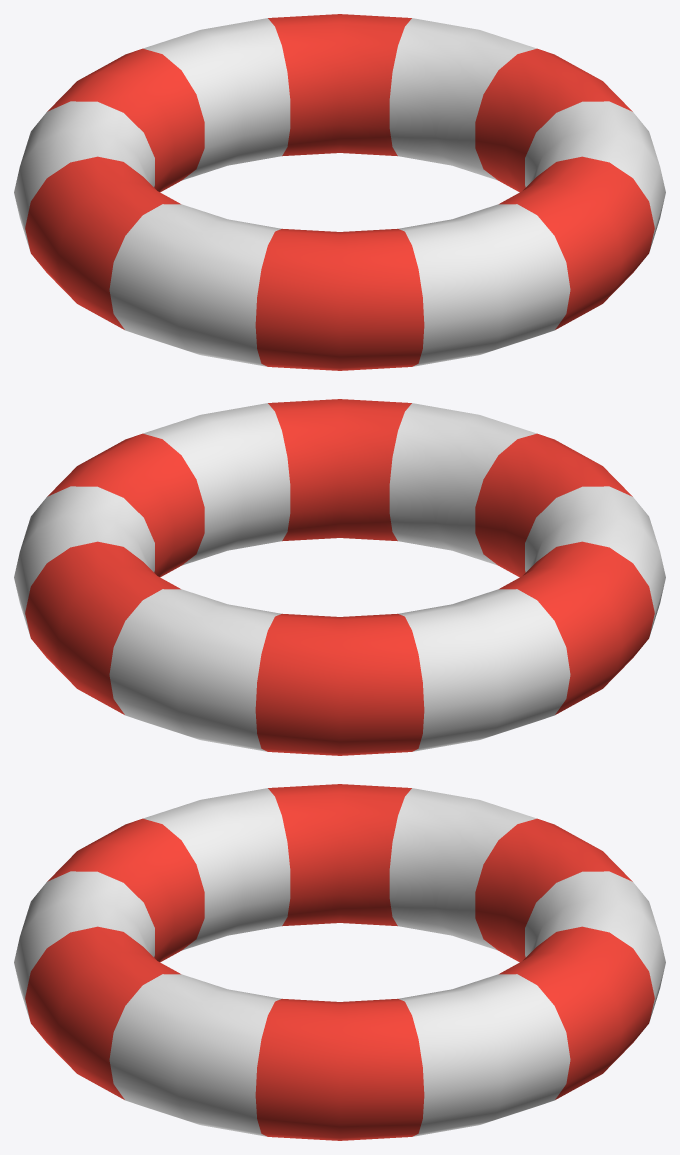
3 renders of one model, top to bottom at view 1: azimuth 30°, elevation 25°; view 2: azimuth 150°, elevation 25°; view 3: azimuth 270°, elevation 25°, orthographic.
Parts seen in each view (by area): view 1: Tube; view 2: Tube; view 3: Tube.
Part boxes in pixels (x1,y1,x2,y2): Tube: (14, 14, 665, 370); Tube: (14, 399, 665, 755); Tube: (14, 784, 665, 1140).
Bounding box in the file's own units: 49 × 10.5 × 49.
